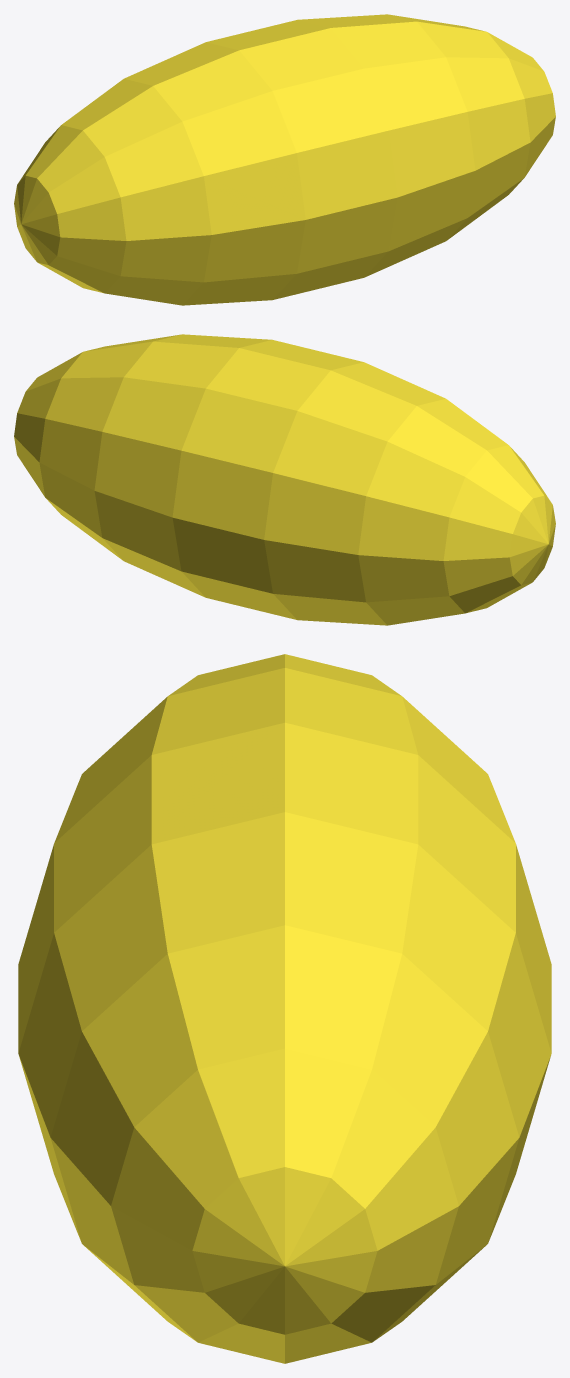
File: Rocket Launcher - Muzzle Flash.obj
3 renders of one model, top to bottom at view 1: azimuth 30°, elevation 25°; view 2: azimuth 150°, elevation 25°; view 3: azimuth 270°, elevation 25°, orthographic. The views are drawn at different scales.
Parts seen in each view (by area): view 1: group77402737; view 2: group77402737; view 3: group77402737.
Boxes of the visible parts, <box> form: group77402737: <box>14,14,555,305</box>; group77402737: <box>14,334,555,625</box>; group77402737: <box>18,654,551,1363</box>.
Size of the model in its own units: 0.09 by 0.0394 by 0.0394.
